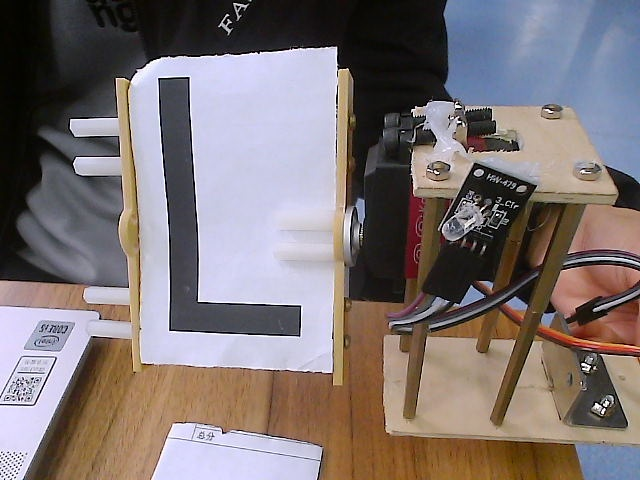L: (47, 34, 392, 395)
